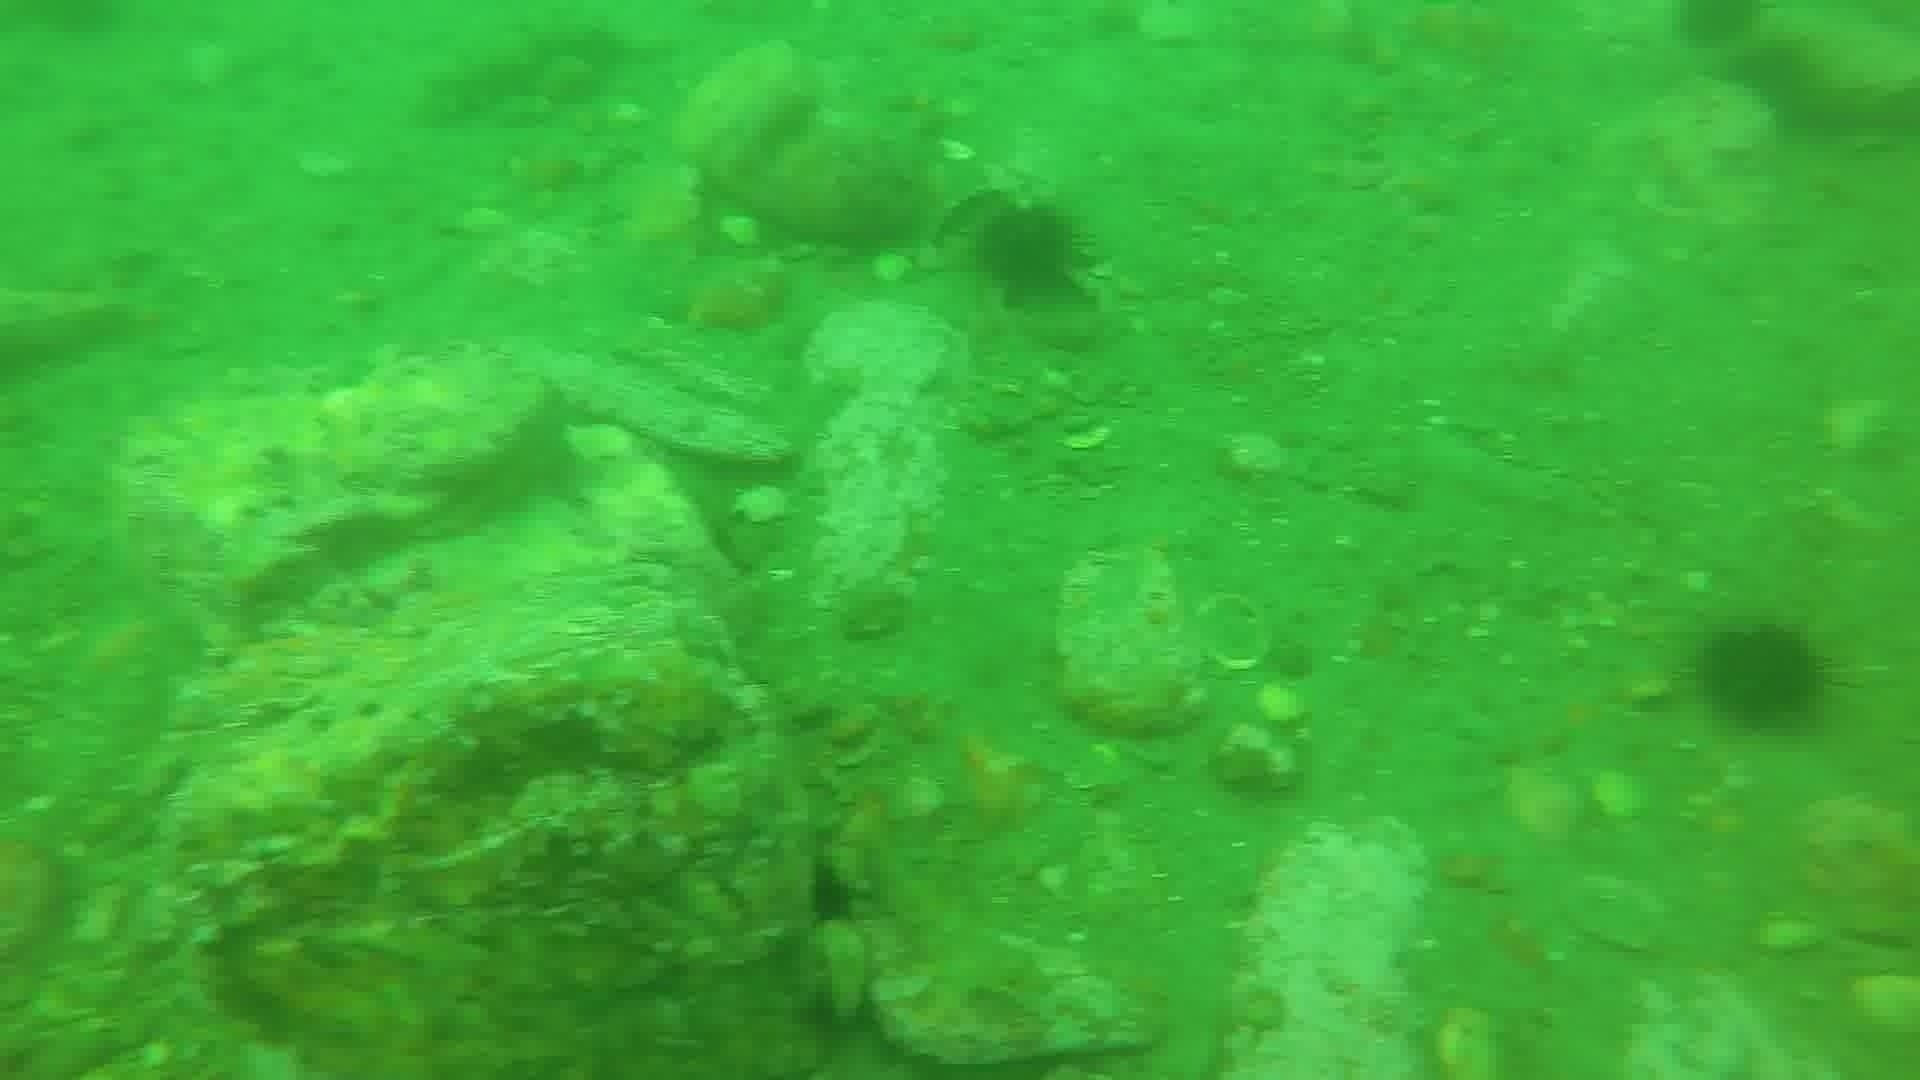echinus: (1692, 615, 1836, 736), (968, 196, 1096, 309), (1668, 1, 1770, 55)
